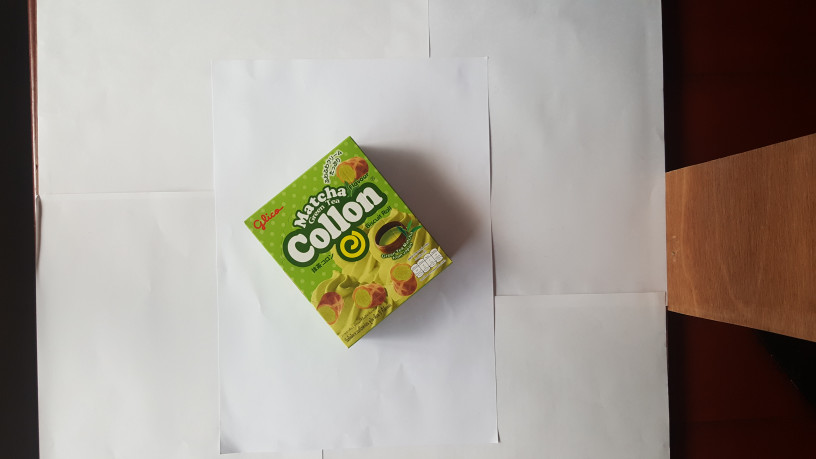collon-matcha: (242, 136, 454, 351)
